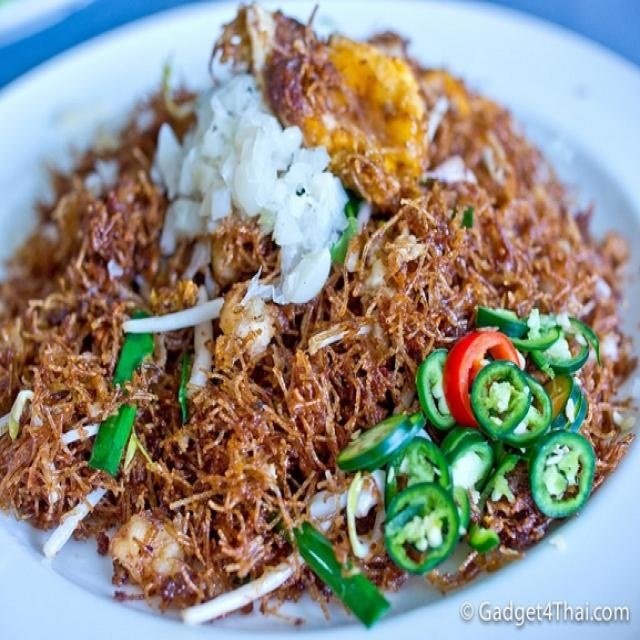面条主食: (4, 5, 634, 628)
